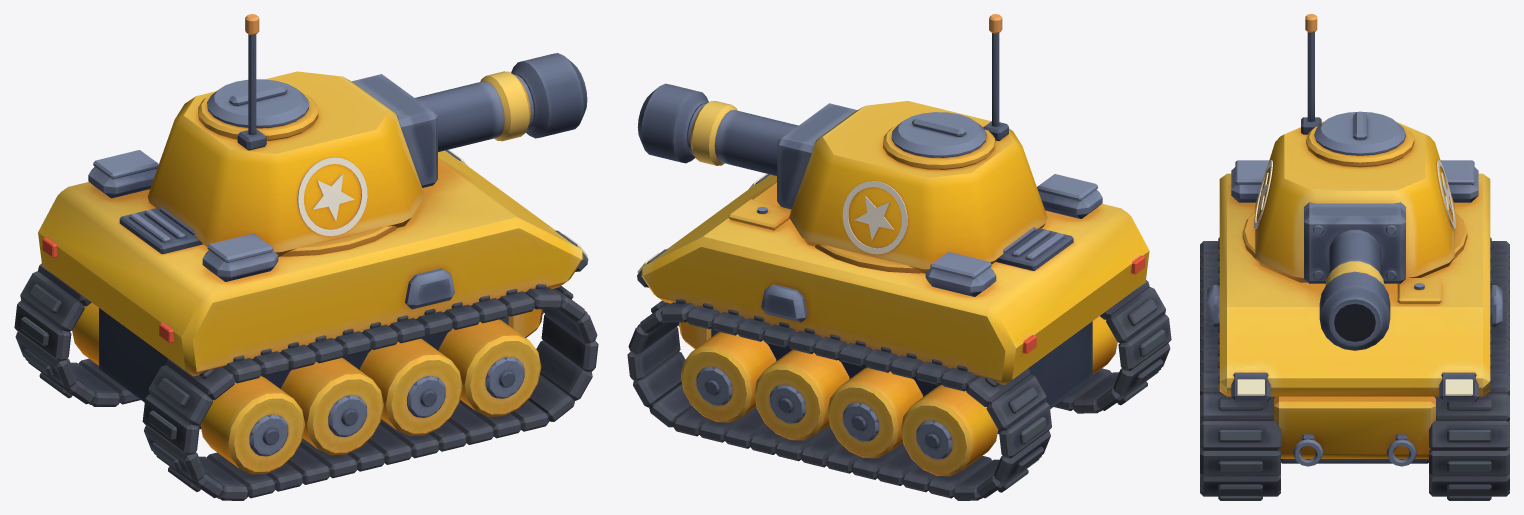
File: tank_t1.glb
The picture shows the model from 3 angles, left to right: view 1: azimuth 30°, elevation 25°; view 2: azimuth 150°, elevation 25°; view 3: azimuth 270°, elevation 25°; orthographic projection. The views are drawn at different scales.
Parts seen in each view (by area): view 1: hull, turret; view 2: hull, turret; view 3: hull, turret.
Boxes of the visible parts, left/top/right/bottom form: hull: left=14, top=149, right=598, bottom=500; turret: left=147, top=14, right=587, bottom=256; hull: left=627, top=173, right=1171, bottom=500; turret: left=637, top=14, right=1047, bottom=273; hull: left=1200, top=160, right=1509, bottom=500; turret: left=1242, top=14, right=1467, bottom=350.
Size of the model in its own units: 4.74 by 4.05 by 2.98.
Materials: 2 (2 with a texture image).
